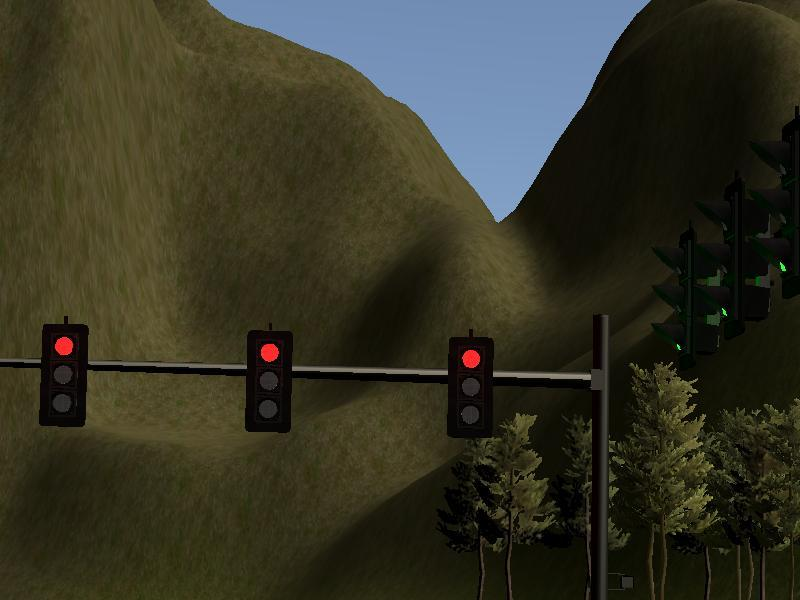Red: (40, 324, 86, 428), (445, 336, 491, 440), (245, 331, 291, 435)
